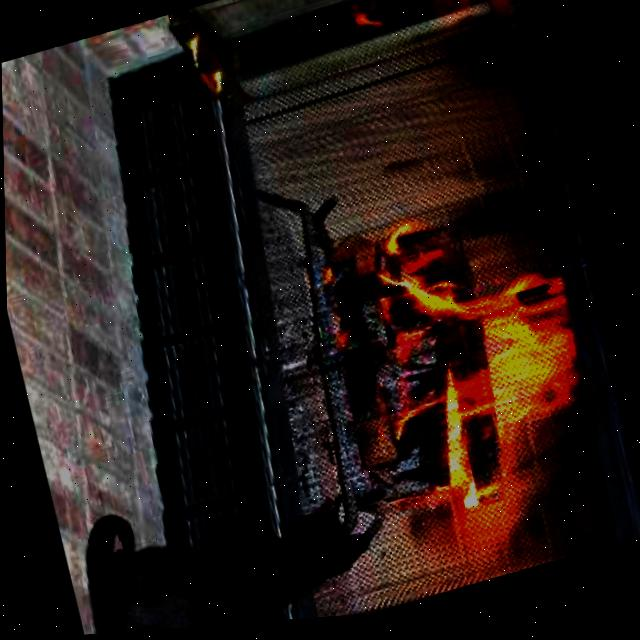Fire: (314, 184, 611, 533)
